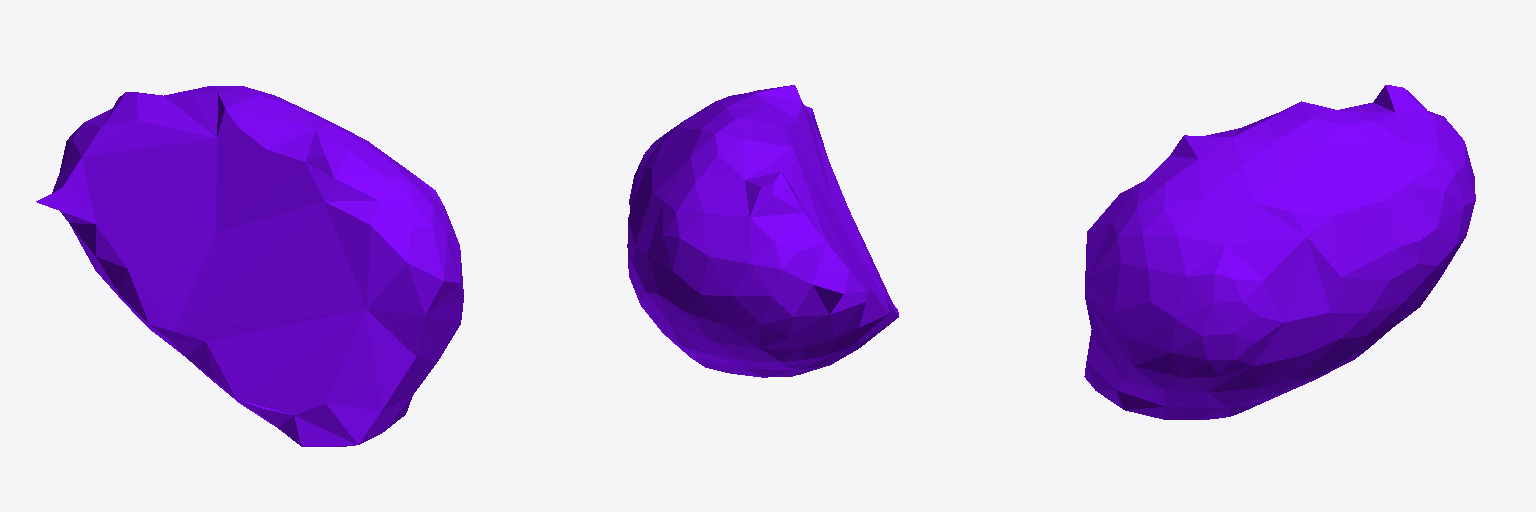
Rendered from Model_10239_LH__Nucleus_of_the_horizontal_limb_of_the_diagonal_band_(HDB).obj.
3 views of the same model, side by side, from view 1: azimuth 30°, elevation 25°; view 2: azimuth 150°, elevation 25°; view 3: azimuth 270°, elevation 25° (orthographic).
Bounding box in the file's own units: 0.745 × 0.6458 × 0.7884.